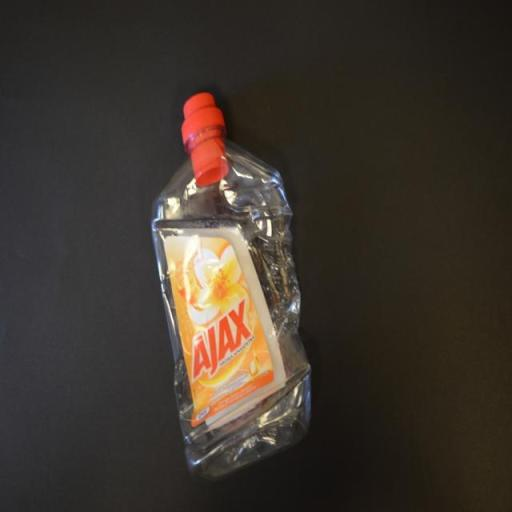plastic: (150, 94, 318, 484)
